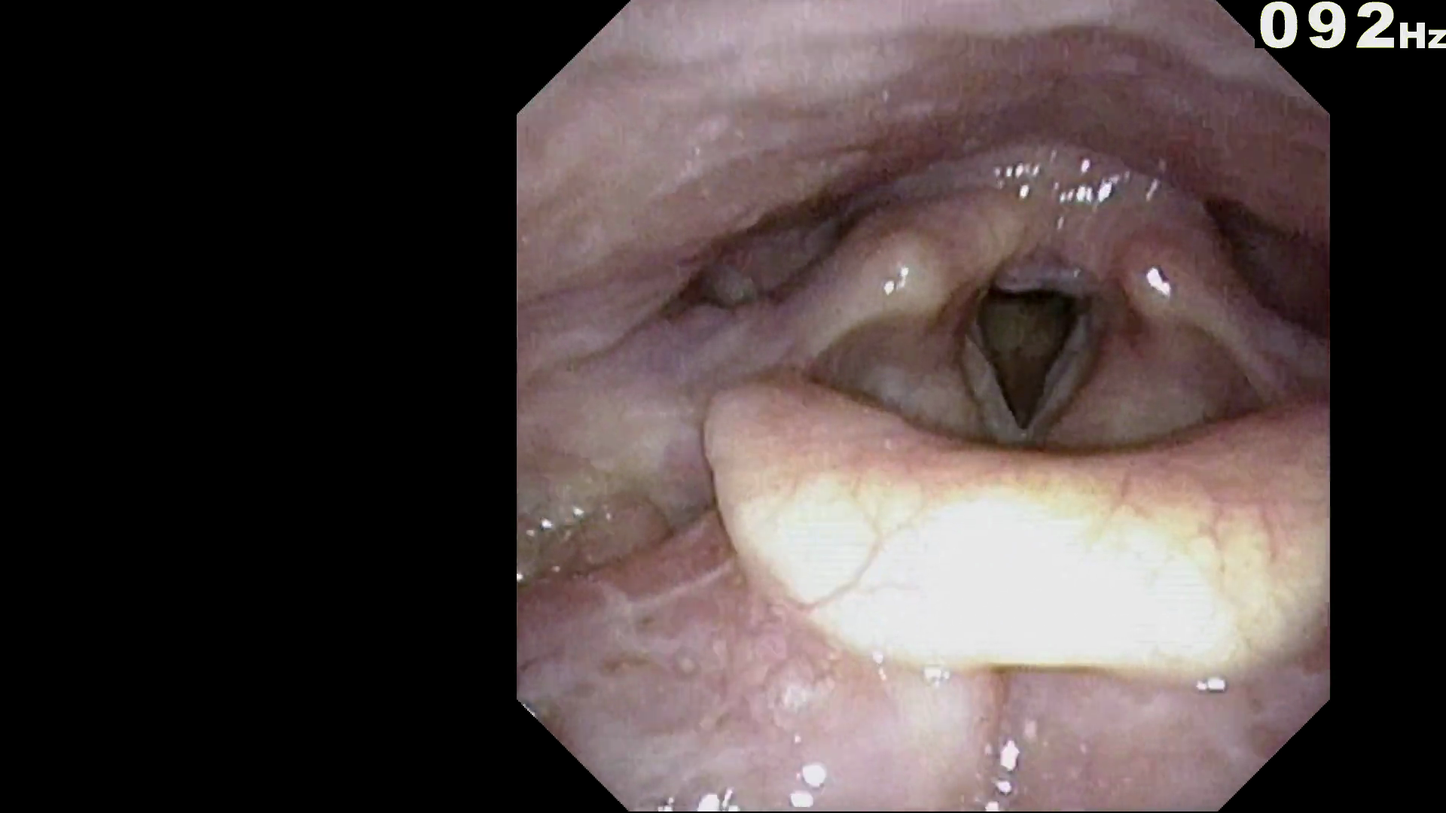epiglottis: (695, 373, 1317, 672)
trachea: (940, 264, 1120, 475)
